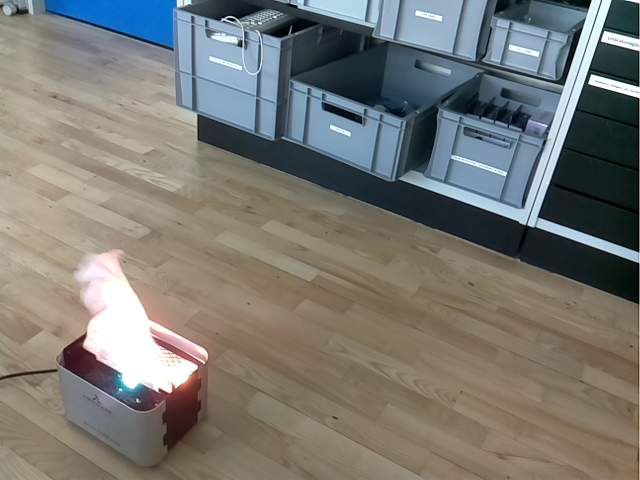fire: (75, 248, 173, 394)
